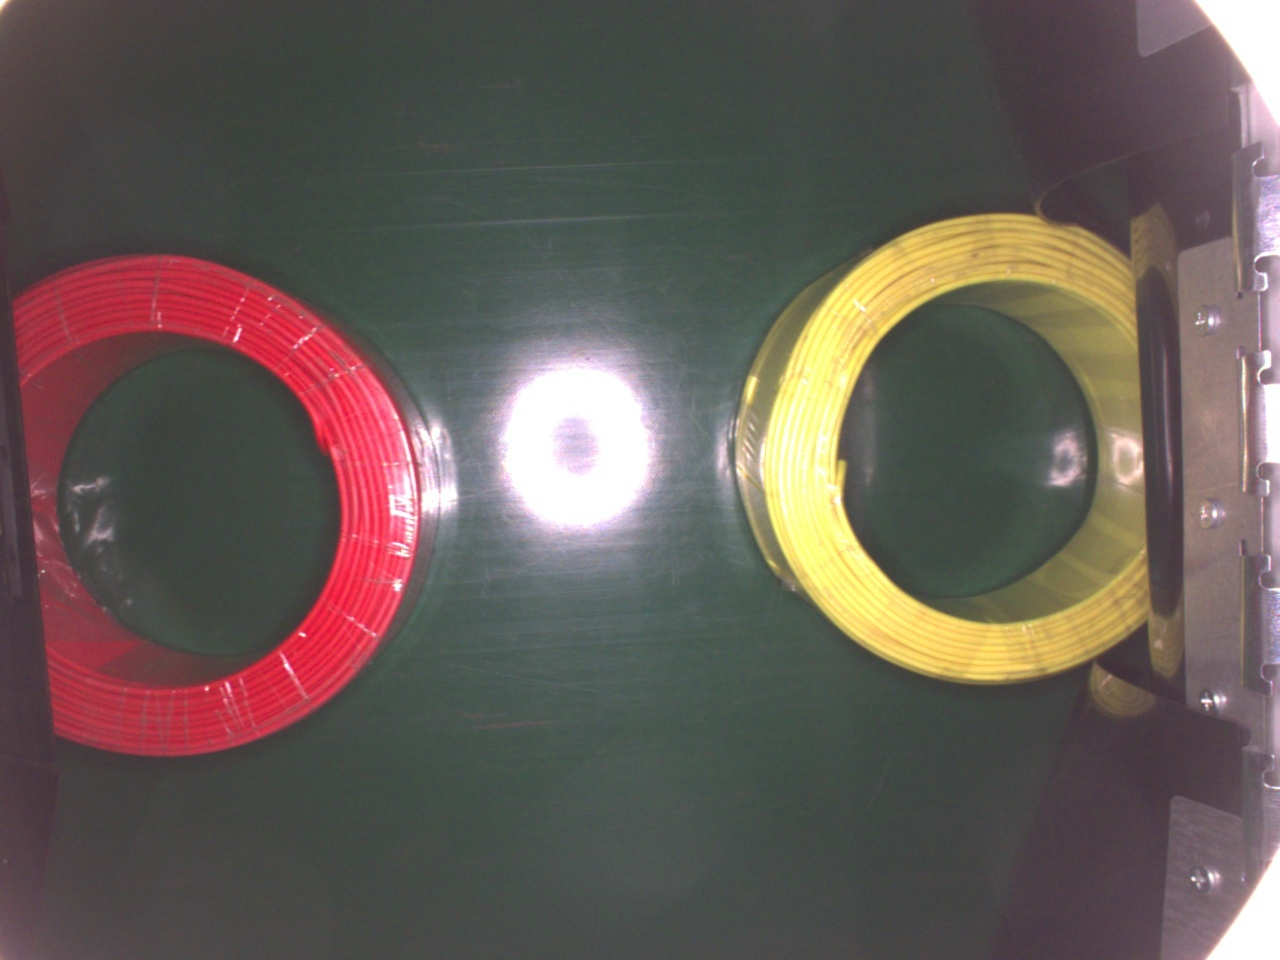red: (15, 251, 435, 764)
yellow: (732, 211, 1142, 686)
